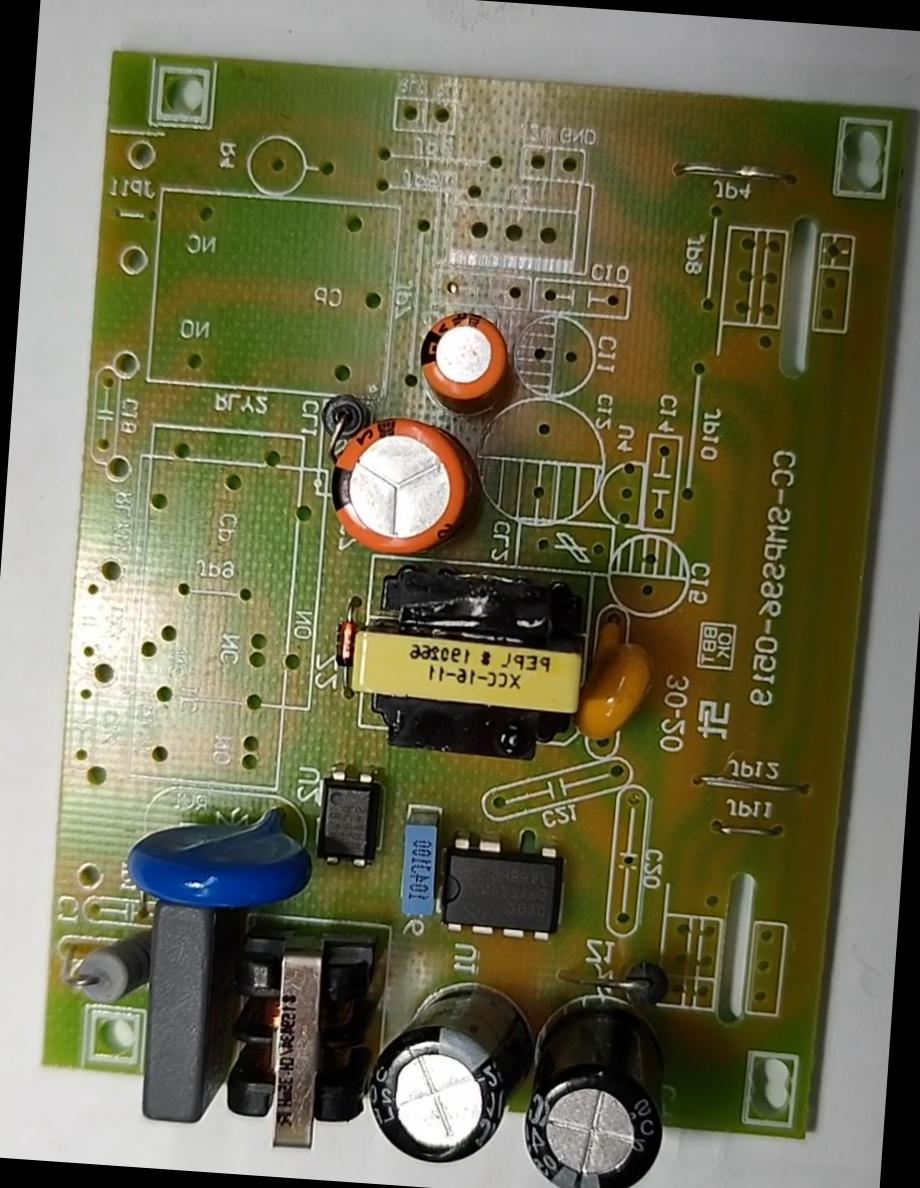Cap1: (322, 408, 479, 559)
Cap2: (413, 298, 515, 414)
Cap3: (361, 968, 536, 1170)
Cap4: (519, 986, 674, 1187)
MOSFET: (436, 836, 565, 946)
Mov: (120, 792, 317, 917)
Resistor: (66, 918, 154, 1014)
Transformer: (337, 568, 593, 772), (209, 932, 372, 1154)
